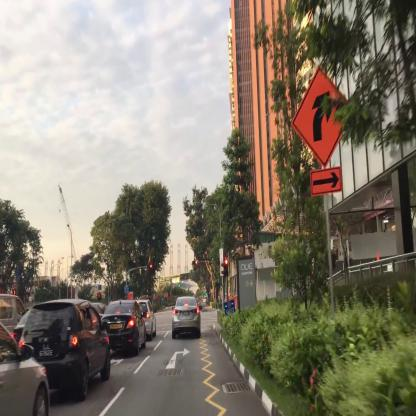red_traffic_light: (224, 259, 228, 276), (192, 260, 198, 265), (147, 264, 152, 268)
